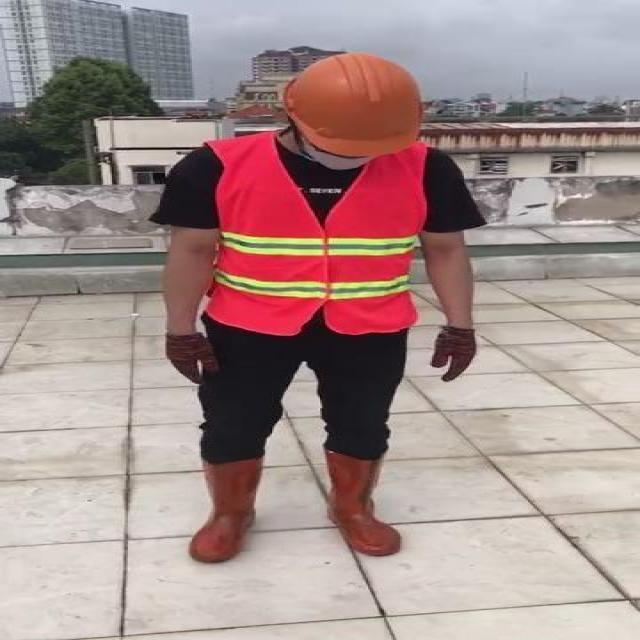boots: (318, 446, 404, 558), (187, 455, 260, 564)
gloves: (160, 330, 220, 384), (428, 327, 478, 384)
helmet: (284, 51, 422, 156)
vest: (210, 134, 418, 332)
